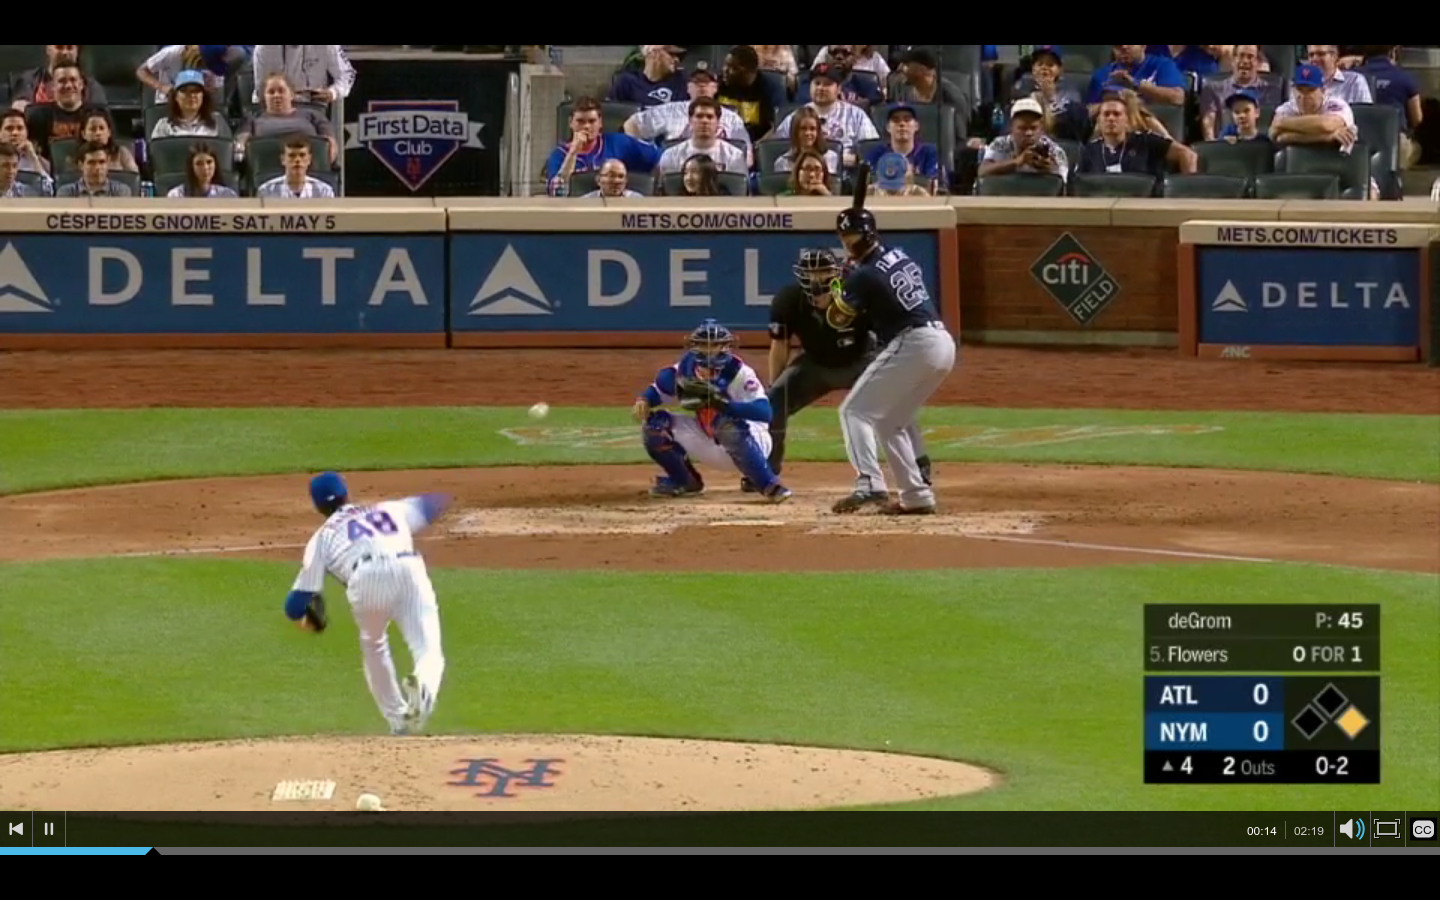baseball: (527, 400, 553, 425)
baseball bat: (850, 156, 873, 209)
baseball player: (282, 465, 459, 739), (822, 209, 965, 526), (627, 319, 785, 506)
referee: (744, 249, 933, 500)
